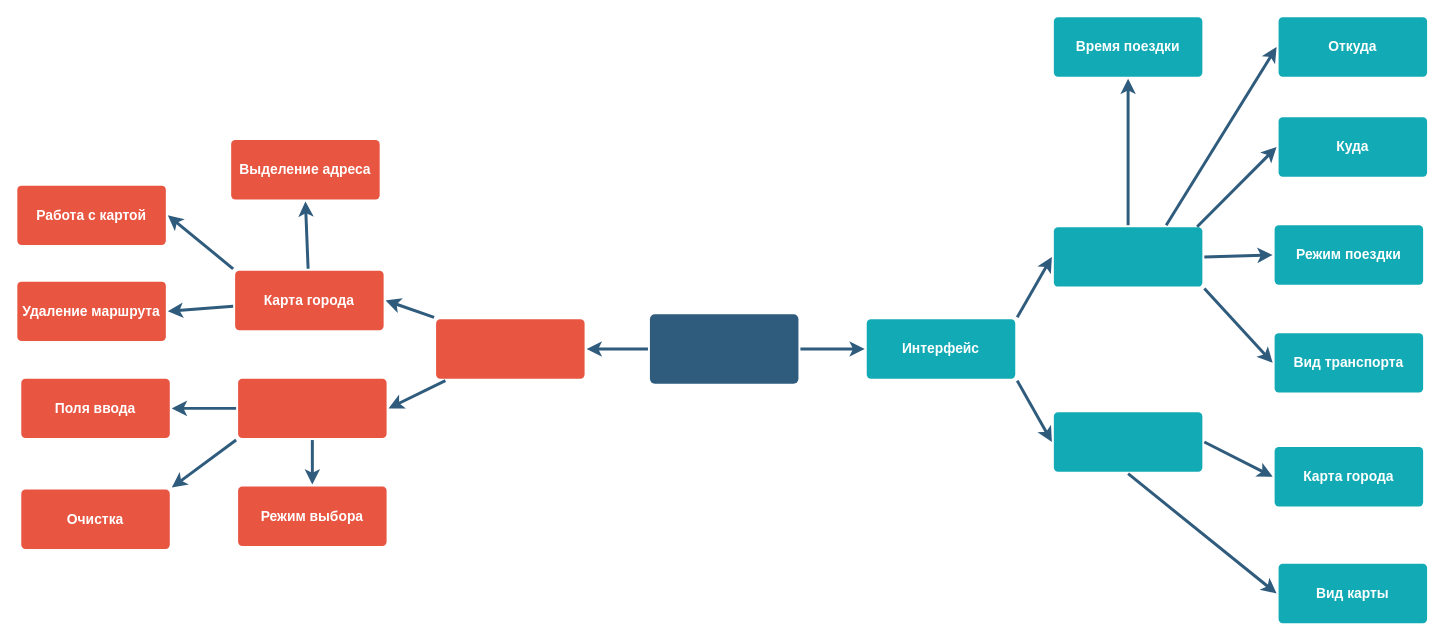
Image size: 1443x640. Some labels were removed from this diagram. Each missing label, with the centre of its shape:
Логика: (x=510, y=348)
Маршрутная панель: (x=1127, y=441)
Схема: (x=1127, y=256)
Форма поиска маршрута: (x=312, y=408)
Яндекс.Маршруты: (x=723, y=348)
